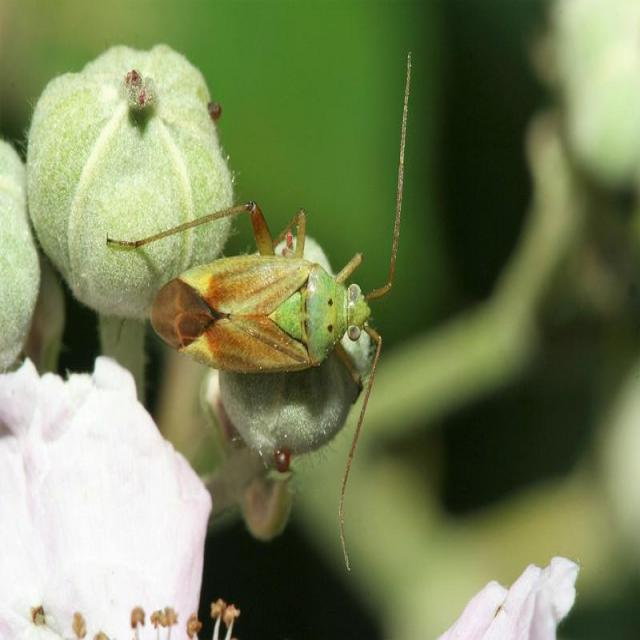Miridae-Adult-: (97, 88, 420, 464)
